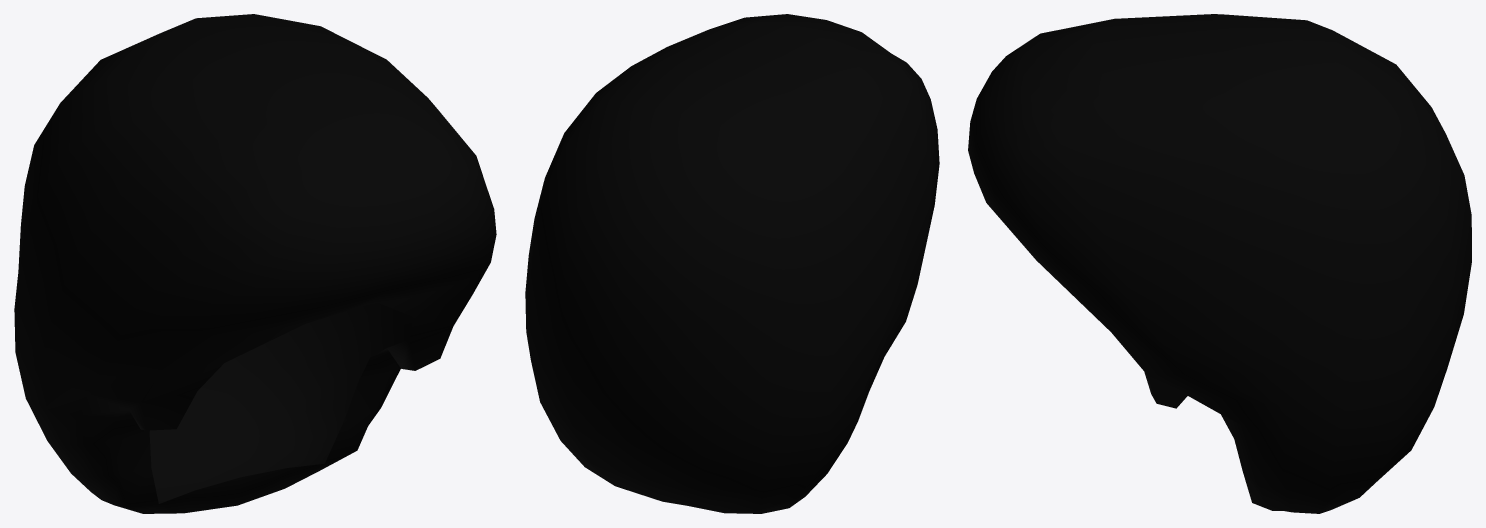
Rendered from NPC_BlackHair5.gltf.
The picture shows the model from 3 angles, left to right: view 1: azimuth 30°, elevation 25°; view 2: azimuth 150°, elevation 25°; view 3: azimuth 270°, elevation 25°; orthographic projection. The views are drawn at different scales.
Visible parts, largest first — view 1: NPC_BlackHair.005; view 2: NPC_BlackHair.005; view 3: NPC_BlackHair.005.
Boxes of the visible parts, x1,y1,x2,y2 form: NPC_BlackHair.005: (14, 14, 496, 513); NPC_BlackHair.005: (525, 14, 939, 513); NPC_BlackHair.005: (968, 14, 1471, 513).
Bounding box in the file's own units: 0.5756 × 0.675 × 0.7007.
1 material, 1 textured.
